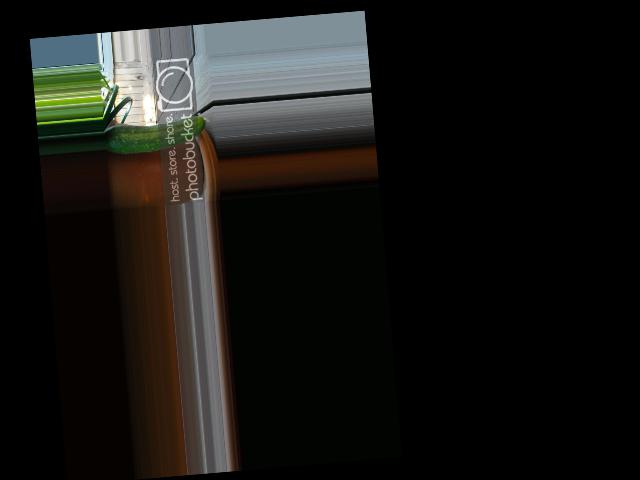cucumber: (104, 114, 212, 155)
